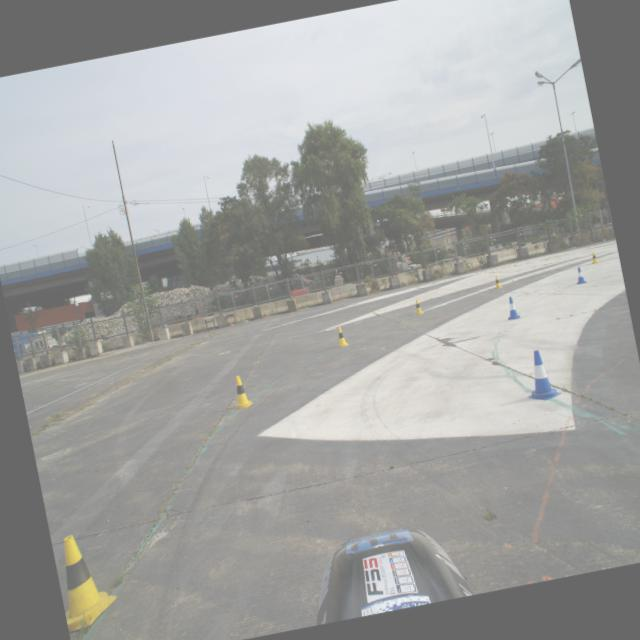blue_cone: (520, 348, 562, 403), (504, 296, 522, 320), (574, 266, 587, 284)
yellow_cone: (51, 529, 122, 632), (228, 374, 254, 409), (334, 325, 349, 348), (412, 298, 424, 315), (492, 275, 503, 289), (589, 251, 599, 264)
